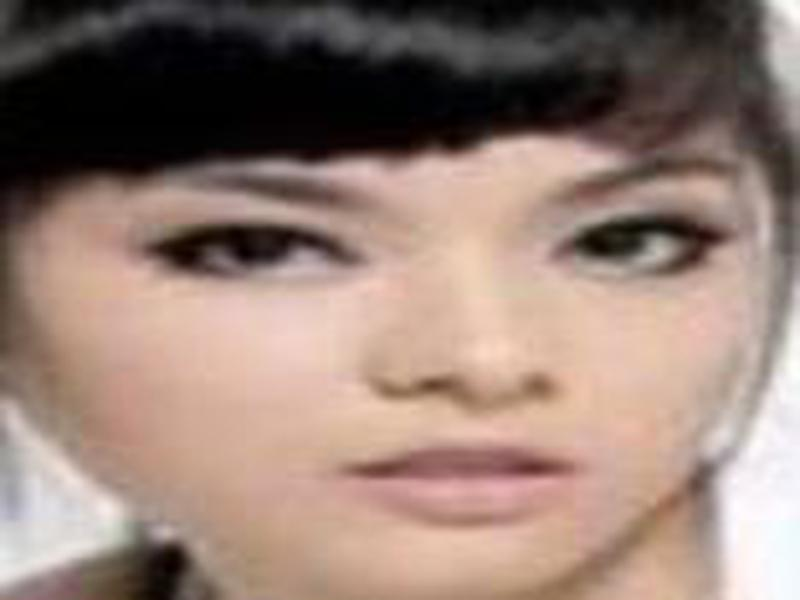without_mask: (14, 102, 766, 600)
